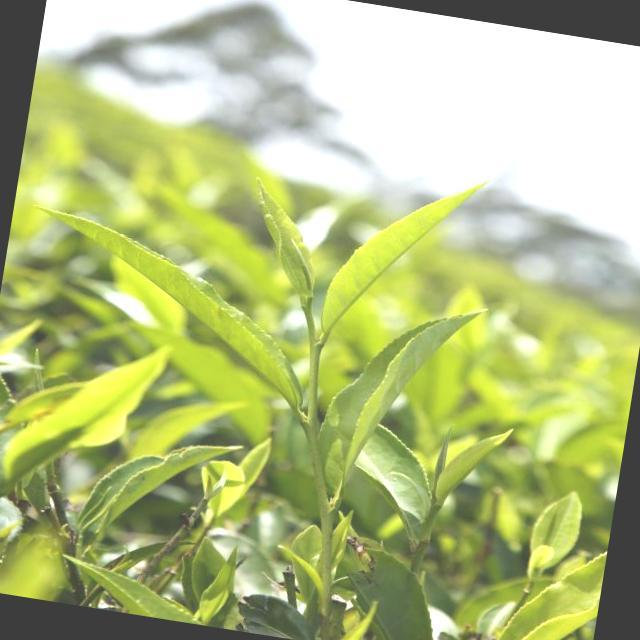Stem: (309, 344, 319, 363)
